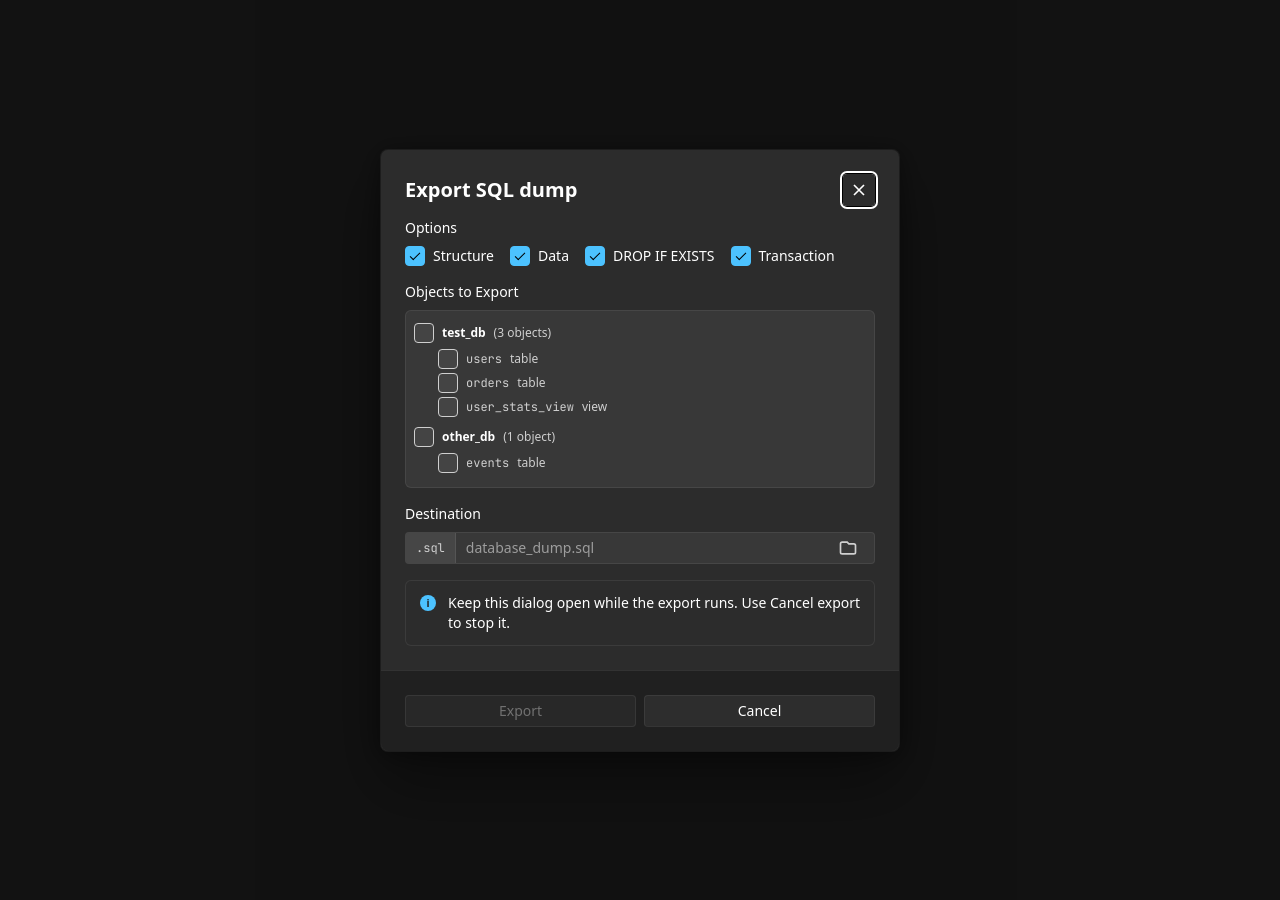
Test: SqlDumpDialog › database checkbox selects/deselects all tables
This screenshot has width=1280, height=900.
Check: the element with test id "dump-object-tree" is shown, box 405,310 -> 875,488
Check: the checkbox with test id "dump-table-test_db-users" is not checked, box 438,348 -> 458,368
// Click database checkbox to select all
Click the checkbox with test id "dump-db-test_db" at (424,332), box 414,322 -> 434,342
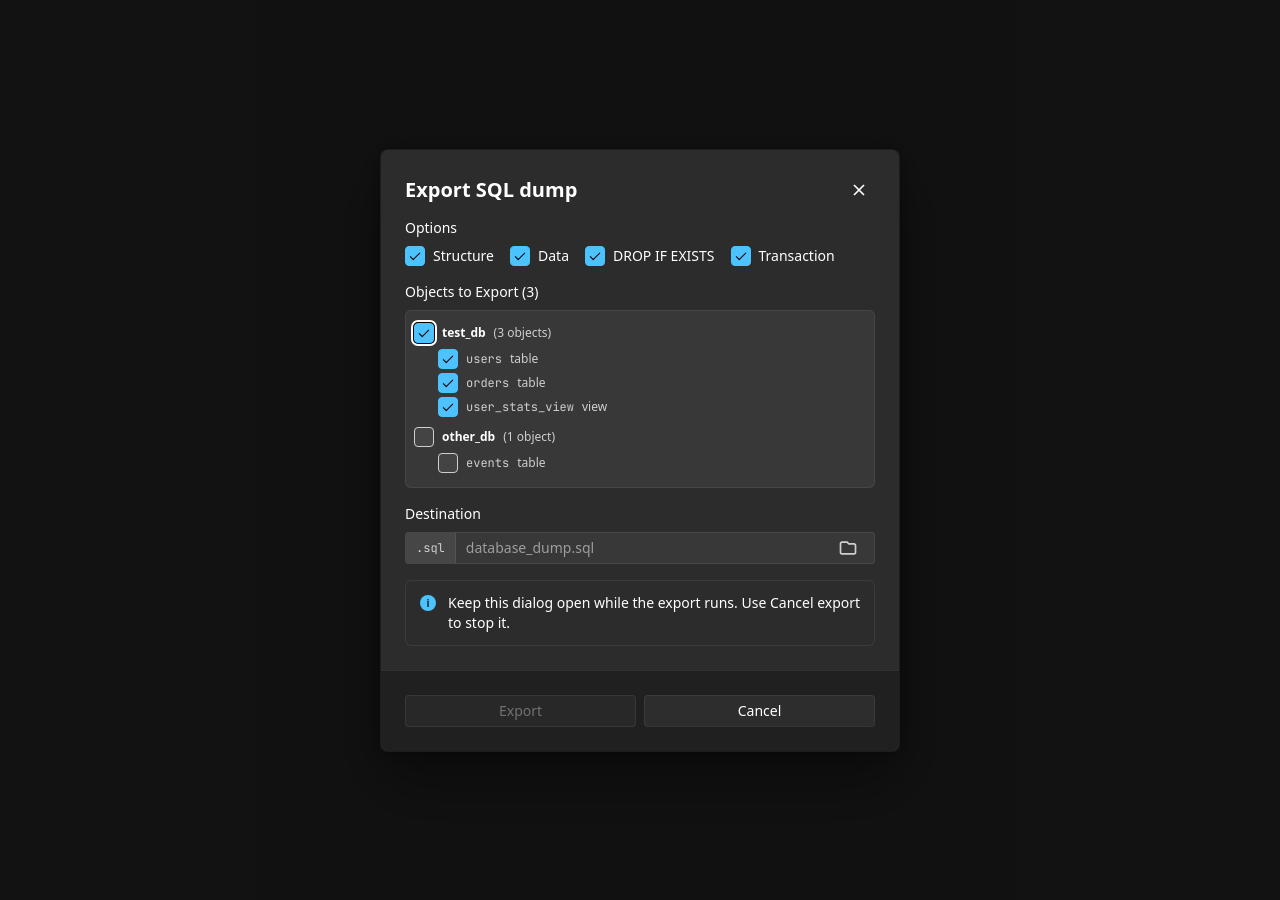
Check: the checkbox with test id "dump-table-test_db-users" is checked, box 438,348 -> 458,368
Check: the checkbox with test id "dump-table-test_db-orders" is checked, box 438,372 -> 458,392
Check: the checkbox with test id "dump-table-test_db-user_stats_view" is checked, box 438,396 -> 458,416
// Click again to deselect all
Click the checkbox with test id "dump-db-test_db" at (424,332), box 414,322 -> 434,342
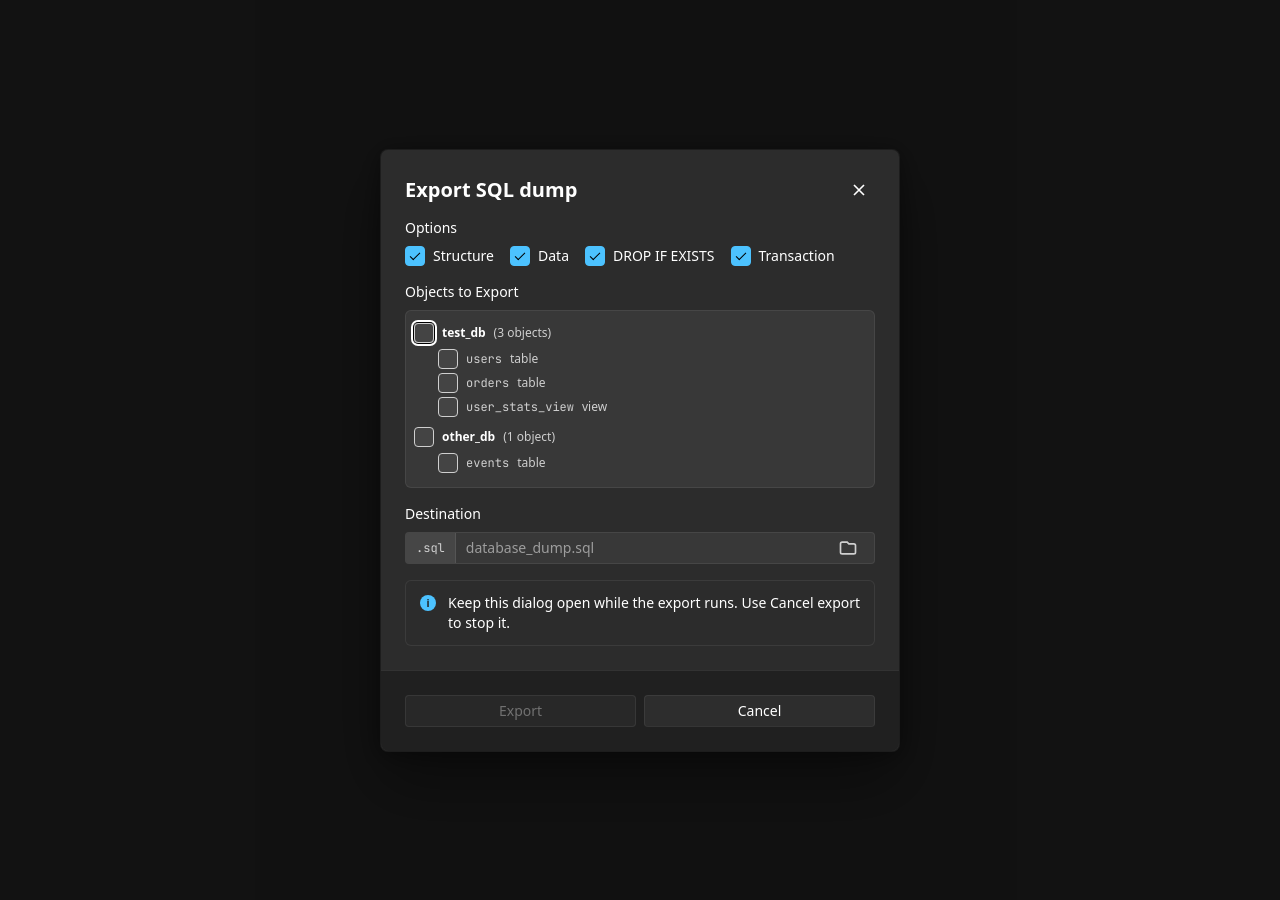
Check: the checkbox with test id "dump-table-test_db-users" is not checked, box 438,348 -> 458,368
Check: the checkbox with test id "dump-table-test_db-orders" is not checked, box 438,372 -> 458,392
